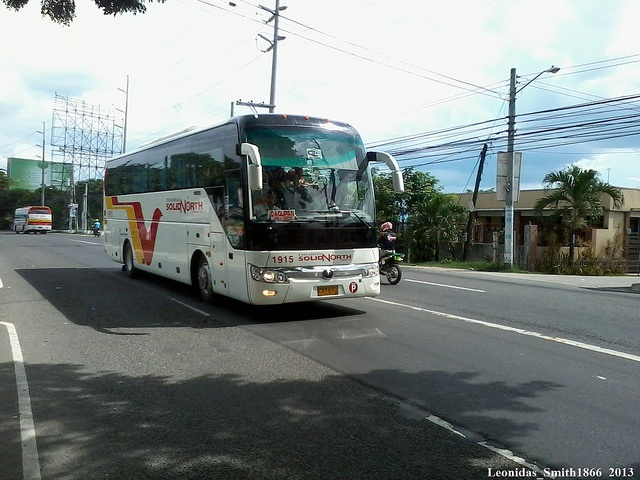non-vehicle: (379, 252, 404, 283), (94, 230, 101, 237)
